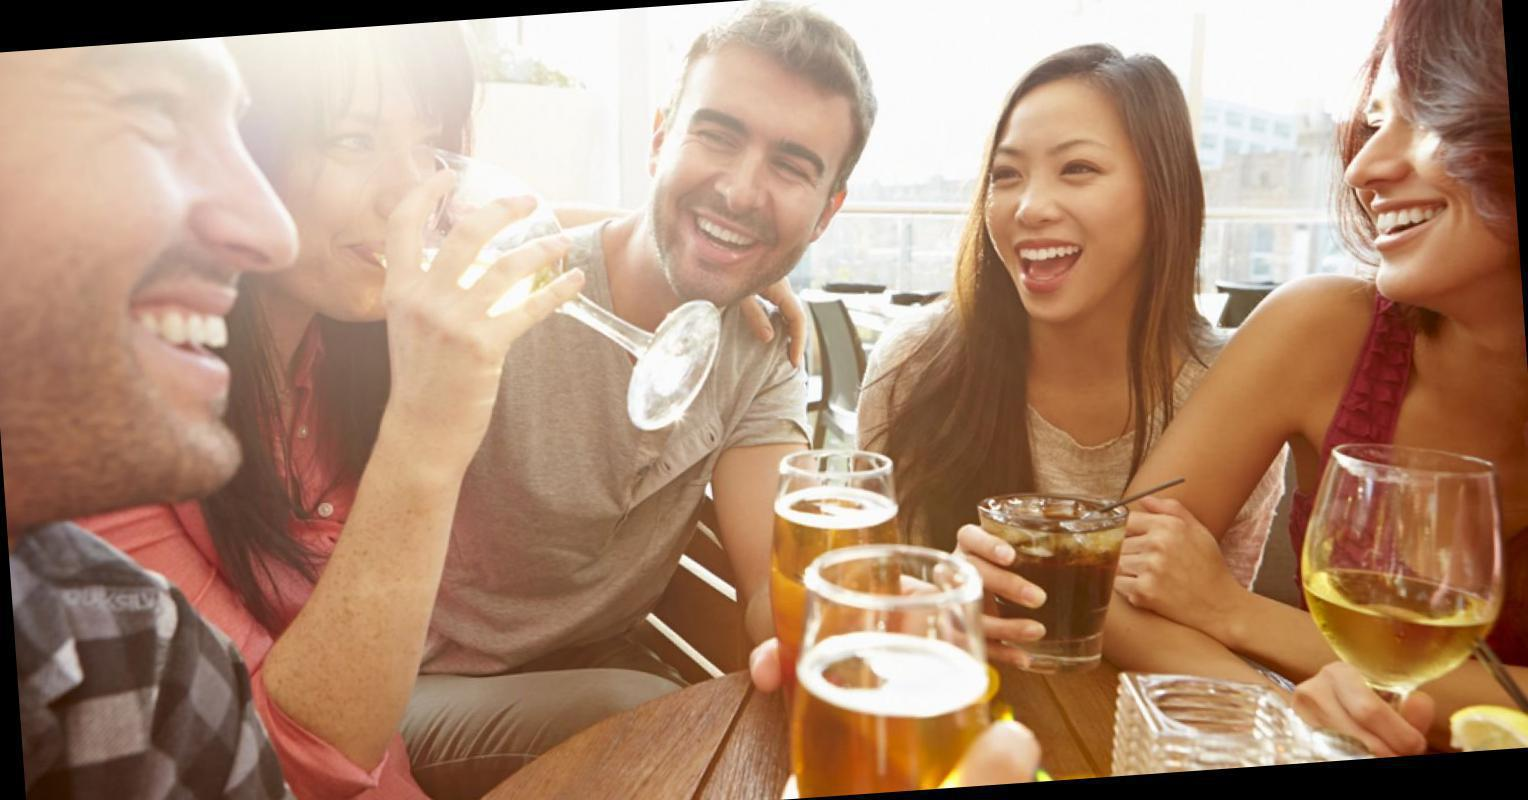Drunk: (667, 67, 820, 294), (987, 92, 1133, 317)
